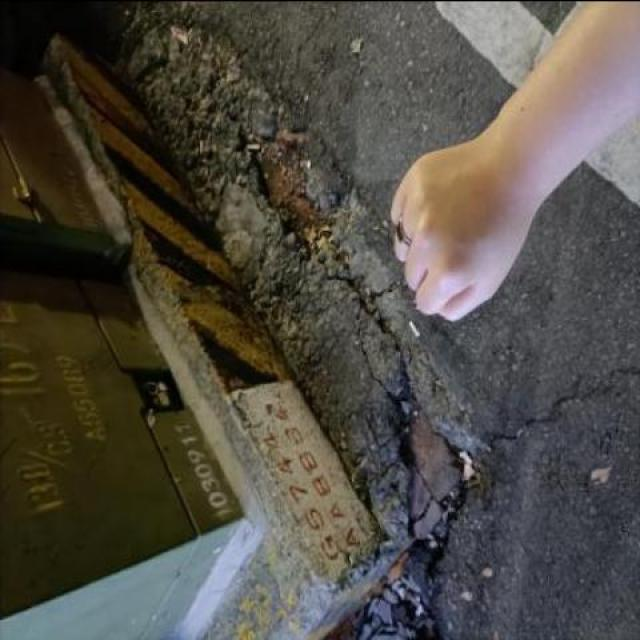fist: (363, 136, 549, 336)
